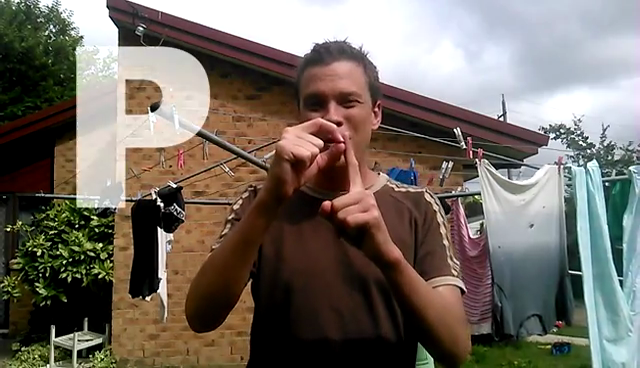P: (266, 114, 392, 255)
